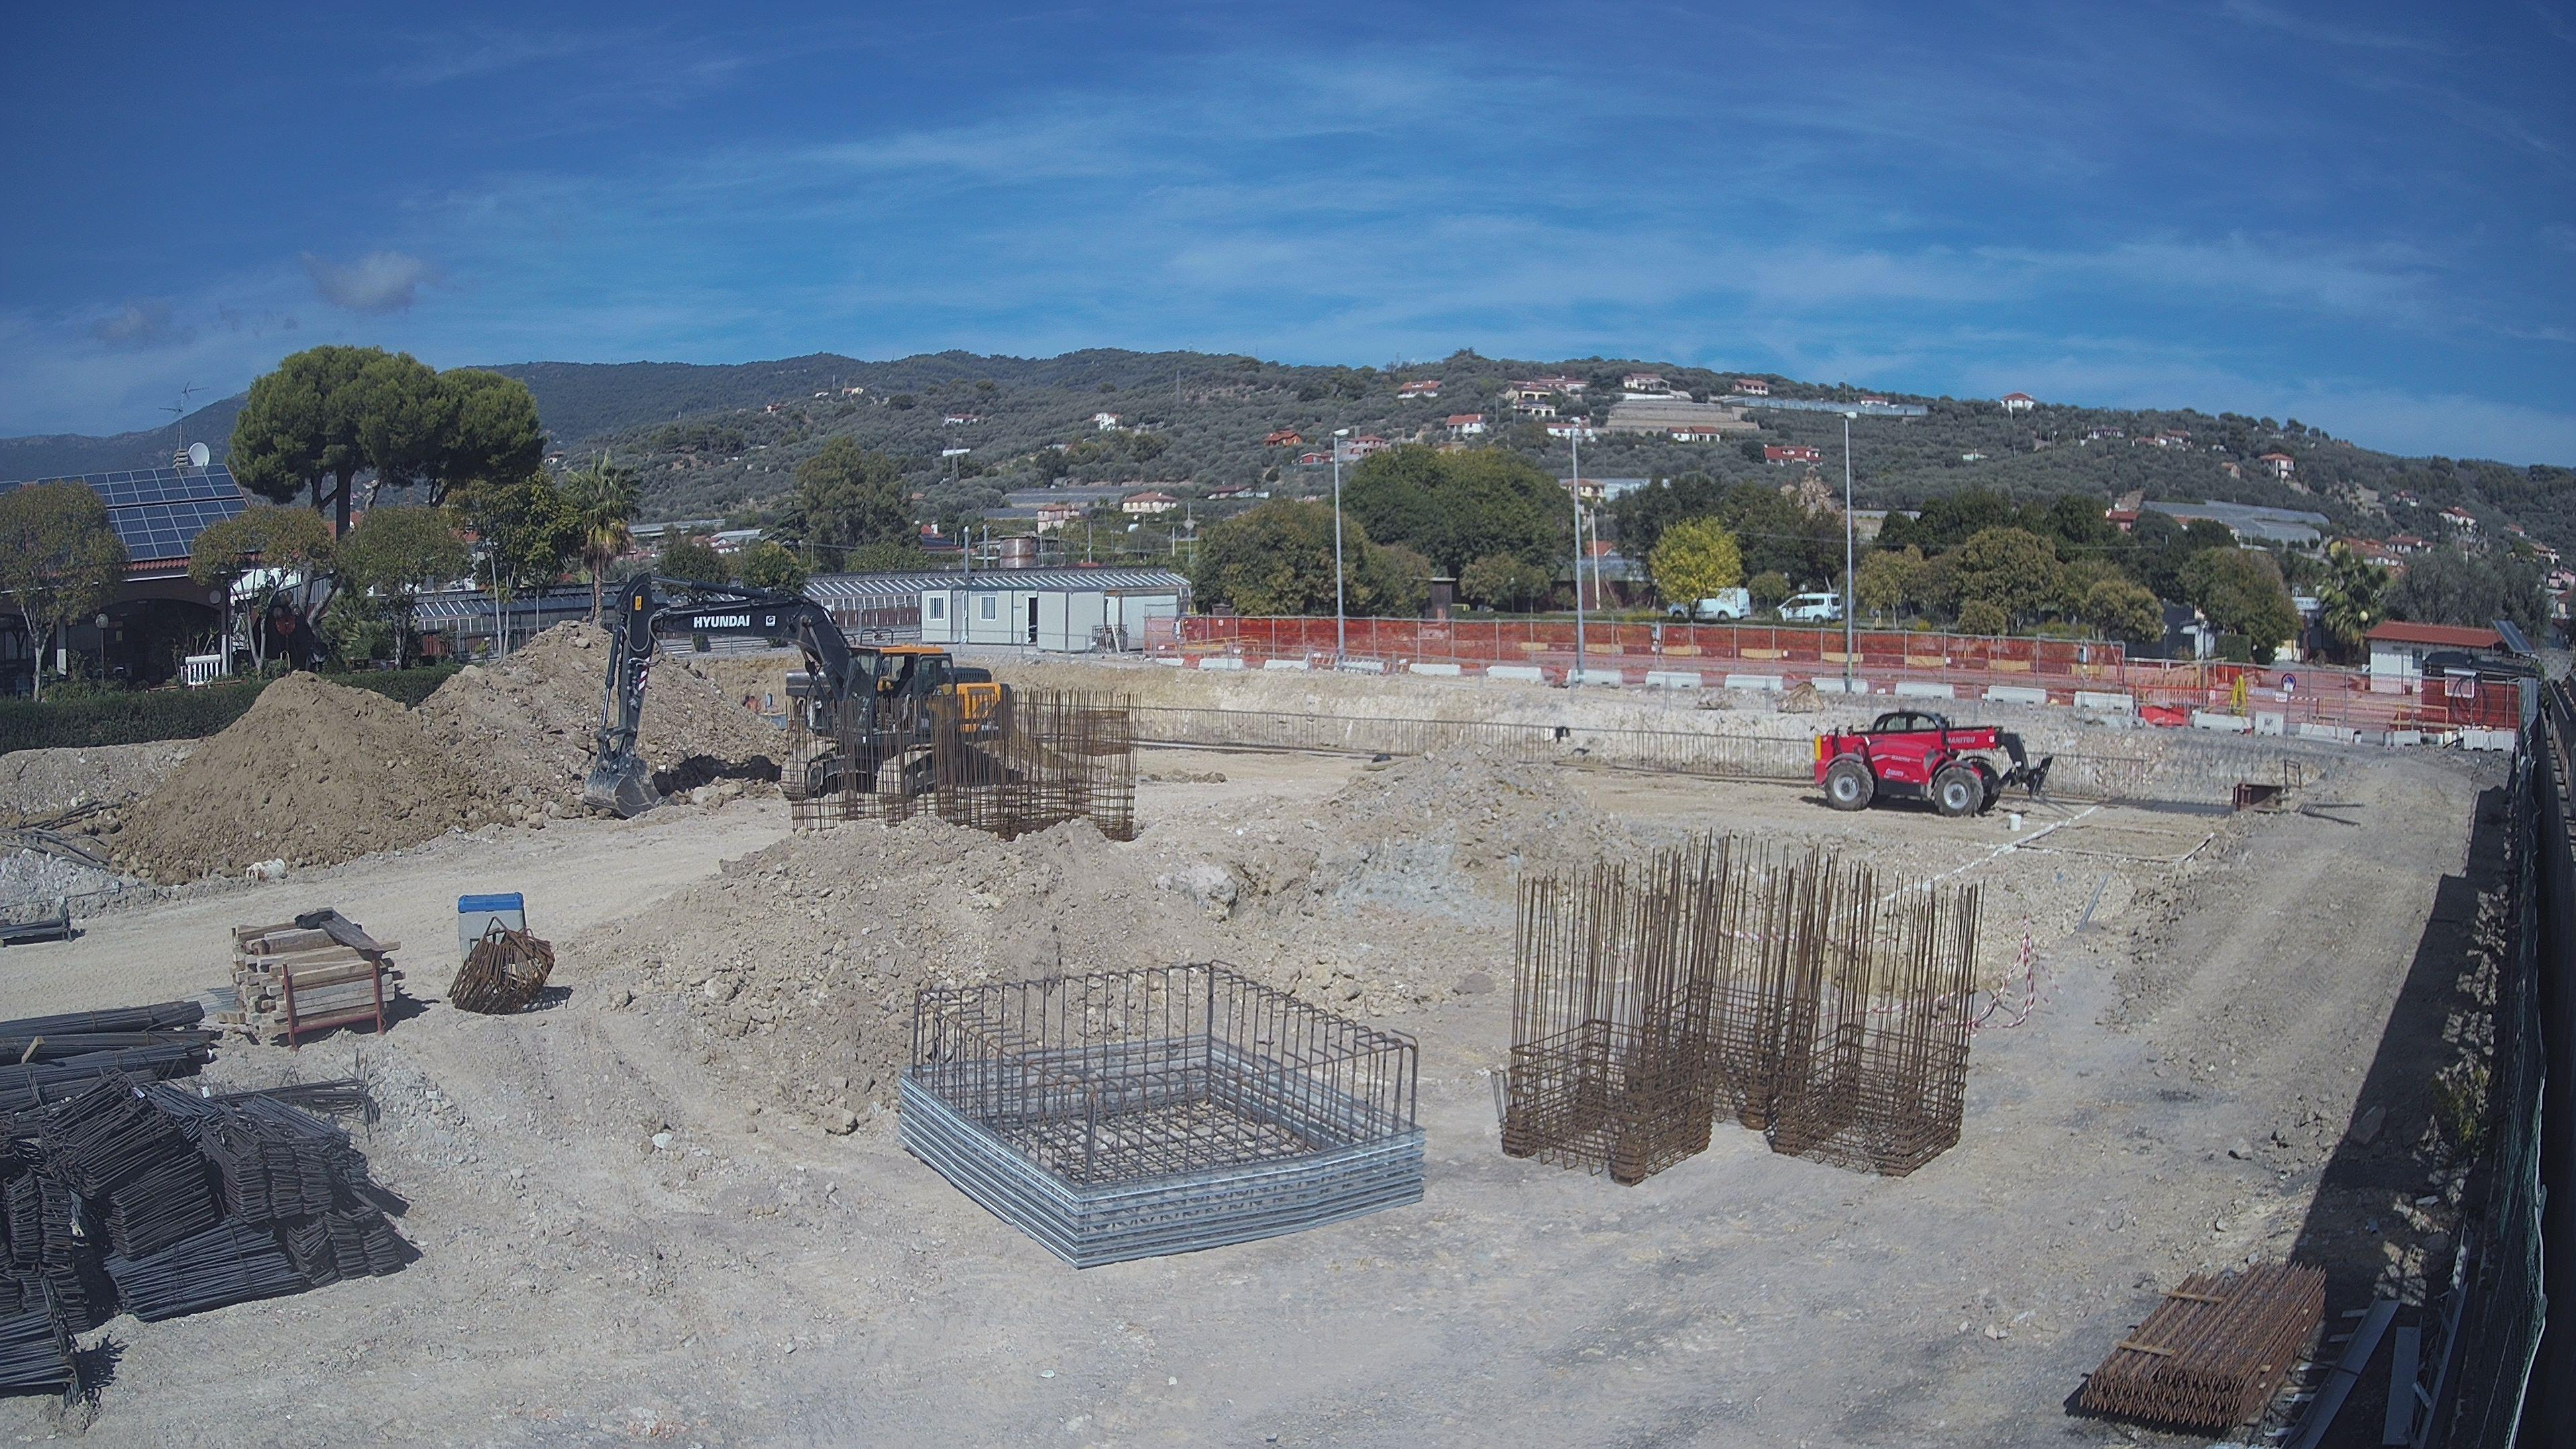Cars: (1665, 587, 1750, 623), (1767, 593, 1842, 626)
excavator: (582, 568, 1016, 801), (1813, 706, 2081, 819)
